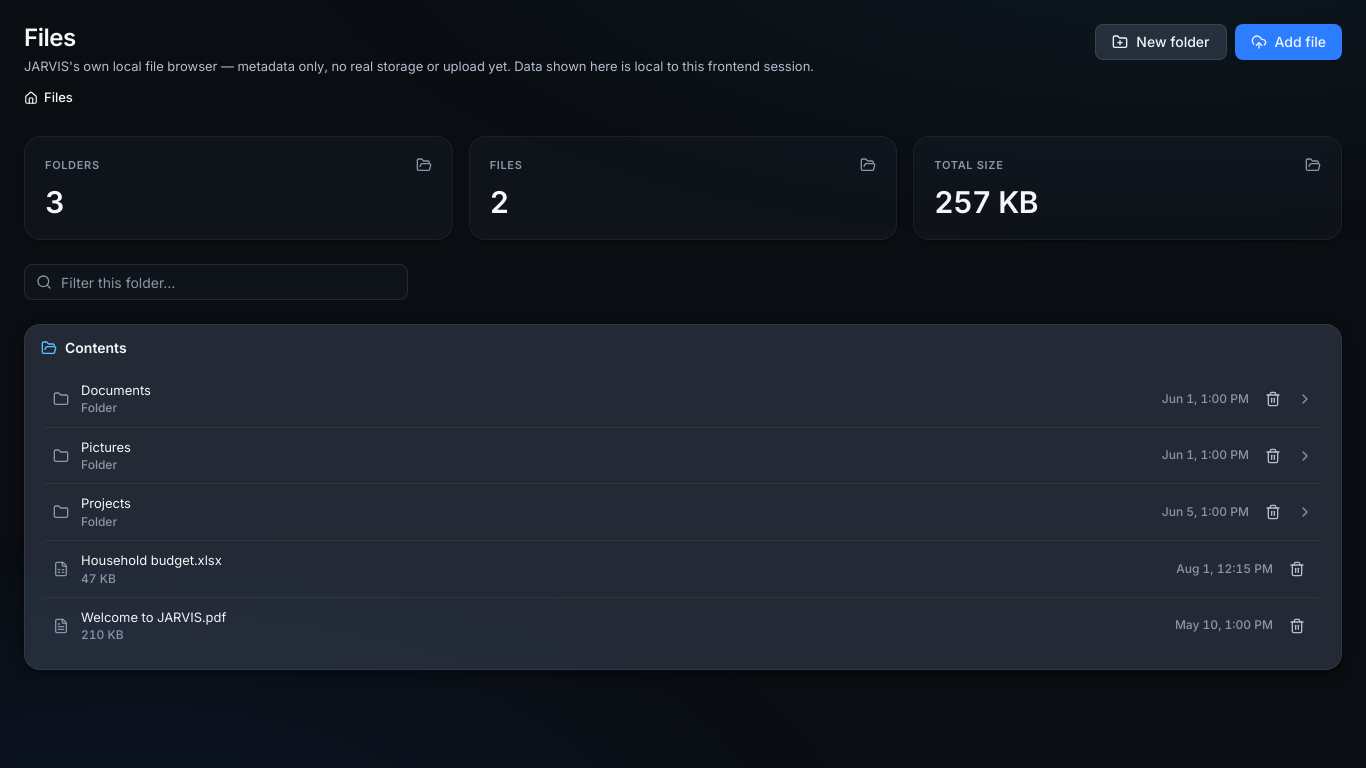
Test: FilesPage › navigates into a folder and back up via the breadcrumb
The image size is (1366, 768).
Click the button with test id "file-row-folder-1".
click(116, 390)  # box [41,371,1325,427]
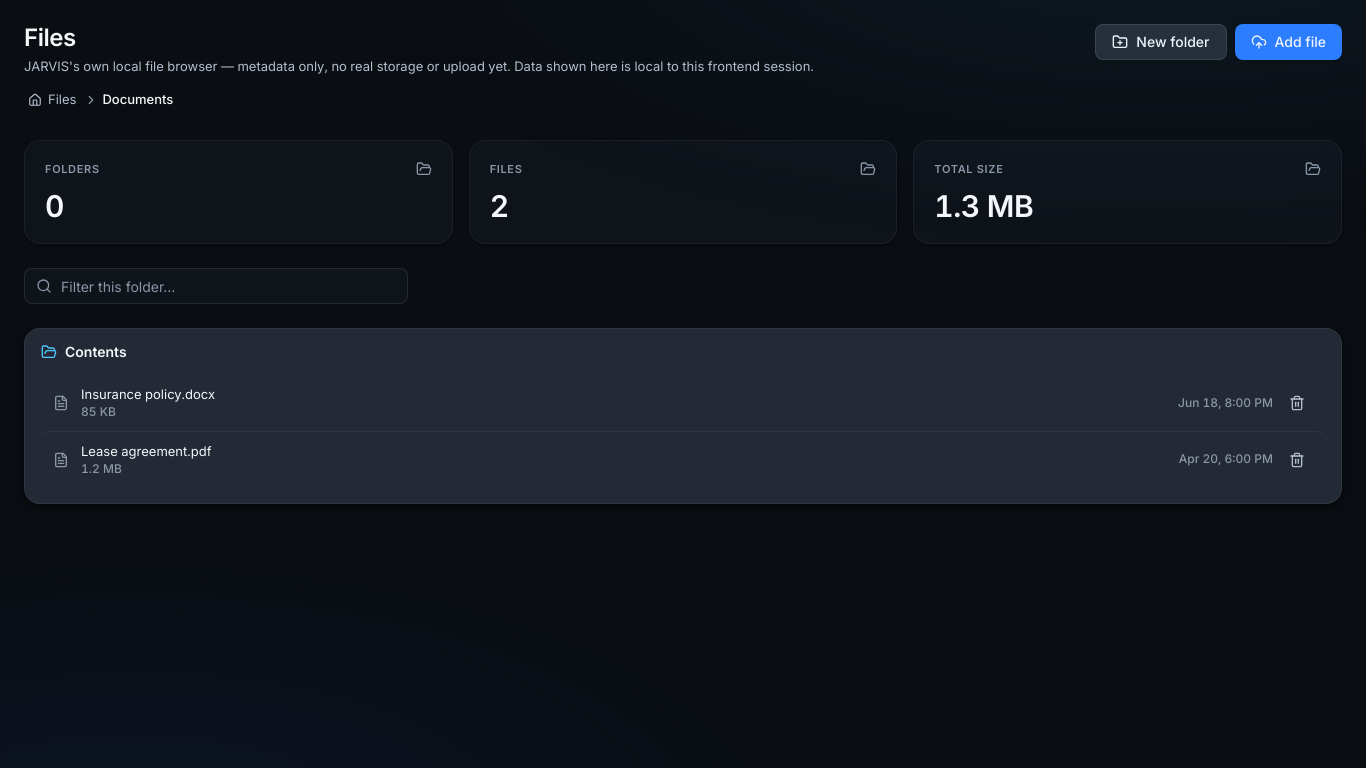
Now the button with test id "file-row-file-3" is shown, box [41,431,1325,487]
Now the button with test id "file-row-file-4" is shown, box [41,375,1325,431]
Now the button with test id "file-row-folder-1" is gone
Click the button "Files".
click(52, 100)  # box [24,88,80,112]
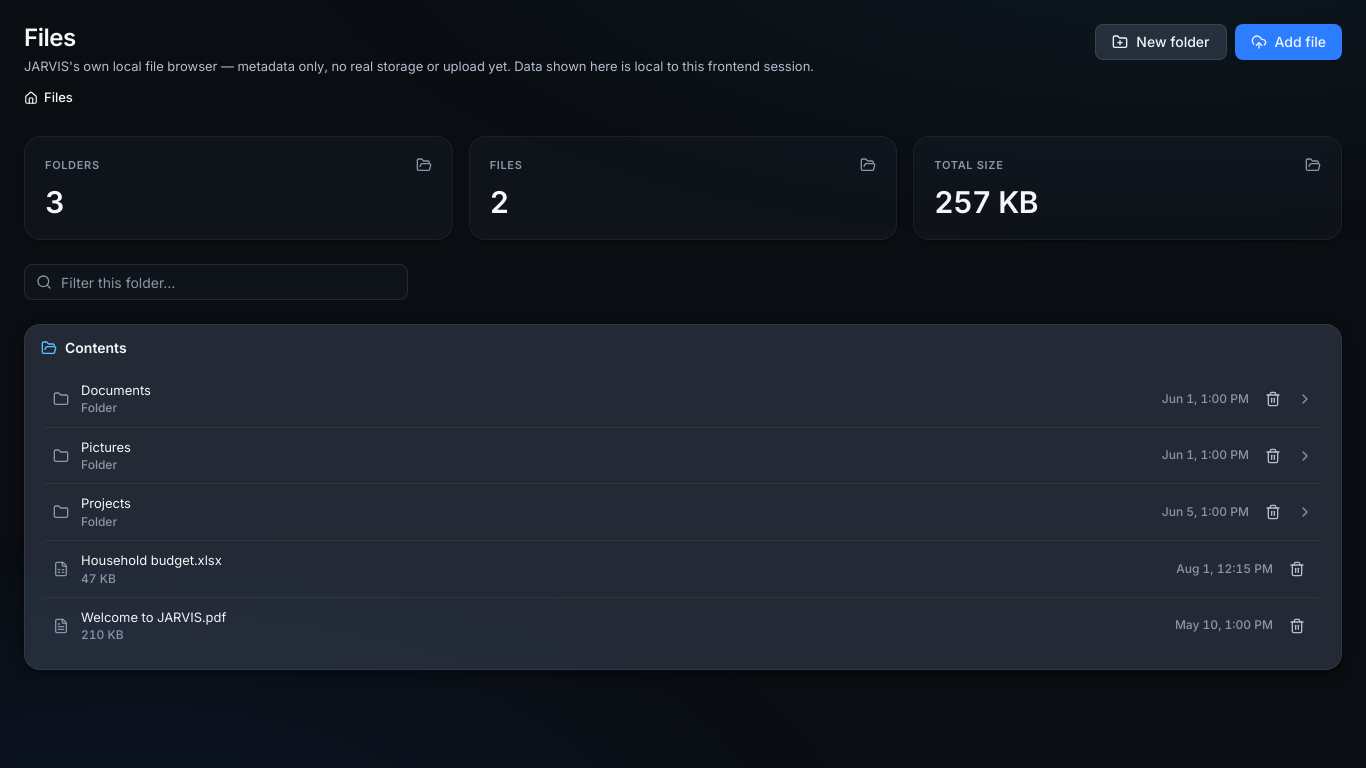
Now the button with test id "file-row-folder-1" is shown, box [41,371,1325,427]
